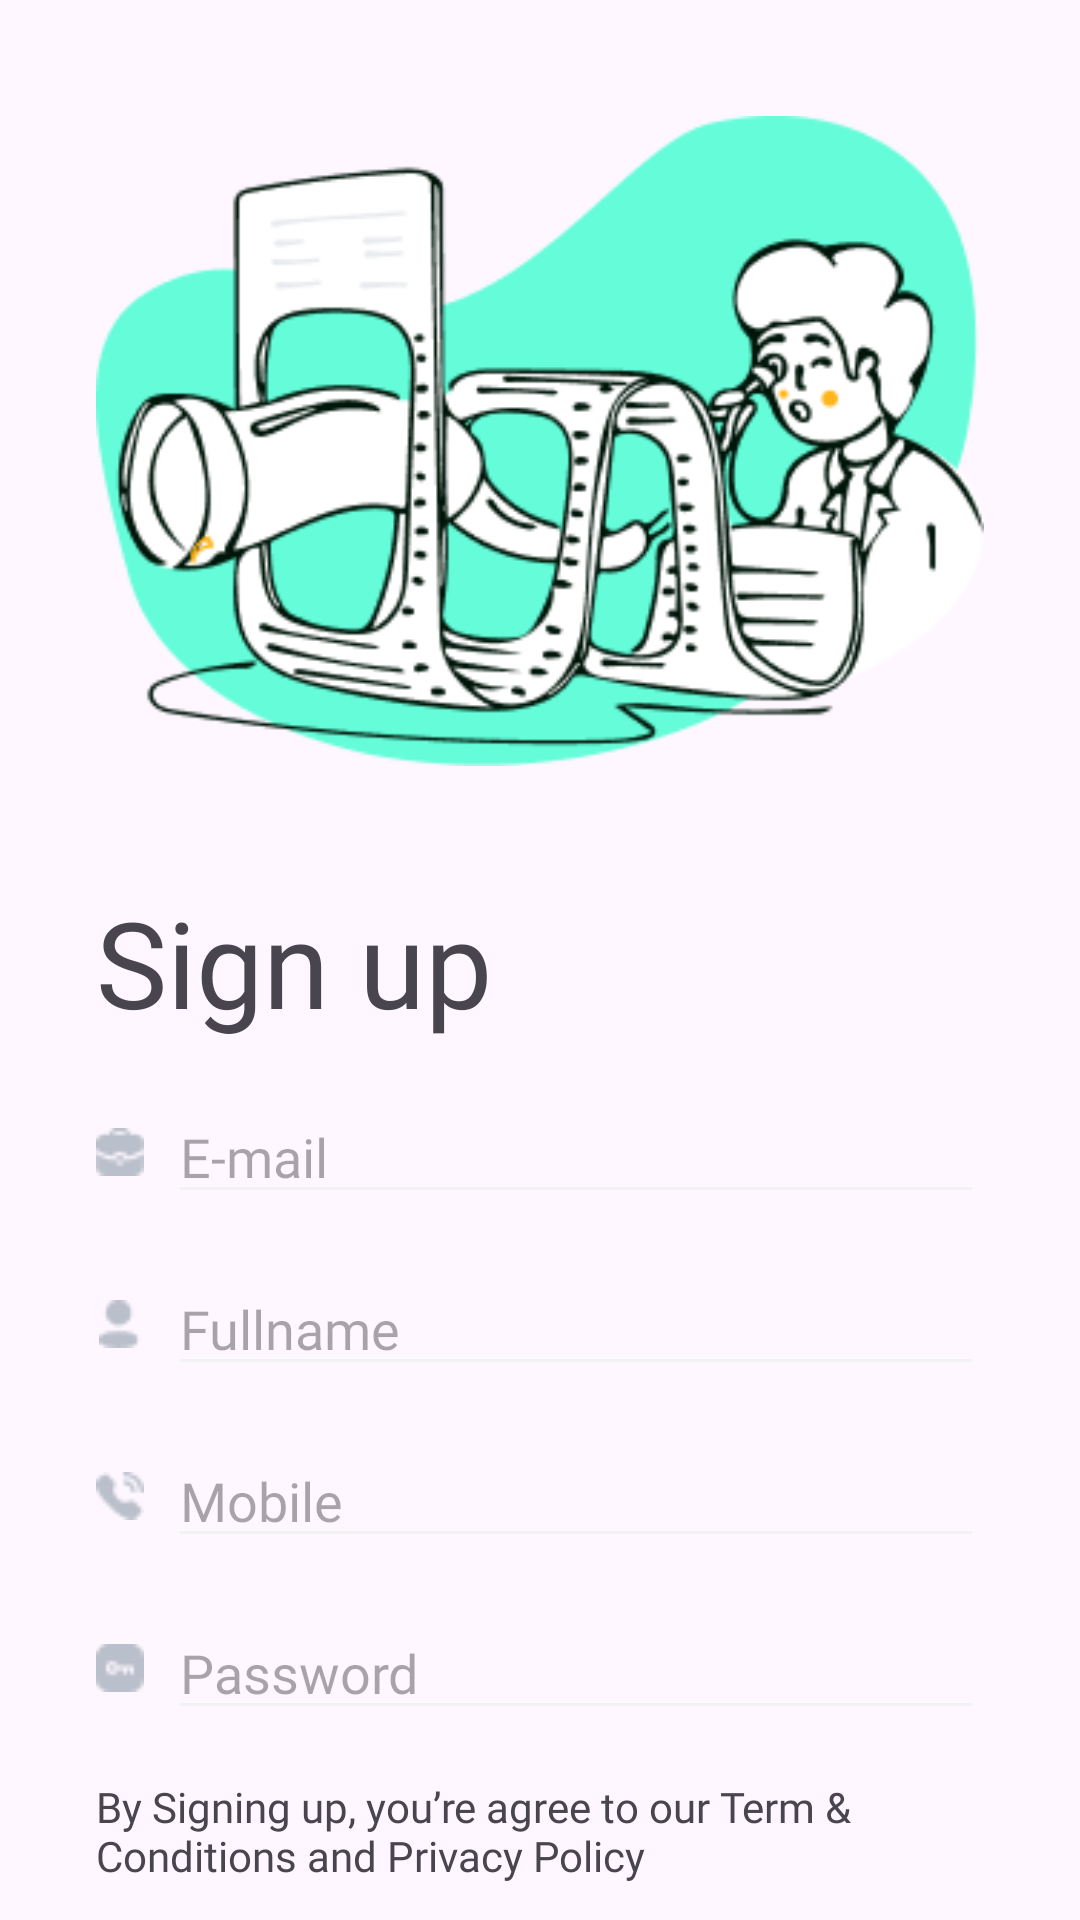

Named icons in this screenshot (1080 × 1920) and their bounding boxes, (x1, y1, x2, y2):
calling: (96, 1472, 144, 1520)
profile: (99, 1300, 138, 1348)
work: (96, 1128, 144, 1176)
